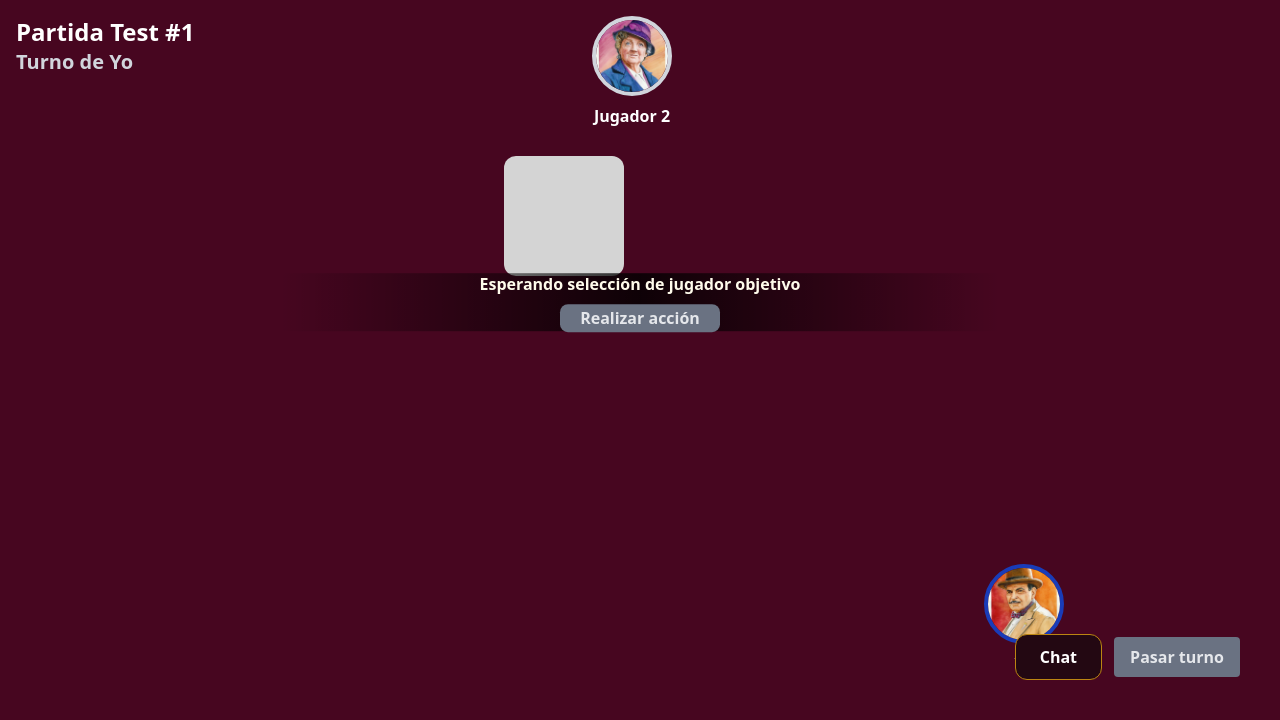
Test case: selectores de jugador y secreto › selecciona y deselecciona un jugador objetivo
Check: the text "Esperando selección de jugador objetivo" is shown, box 480,272 -> 800,296
Check: the button "Realizar acción" is disabled, box 560,304 -> 720,332
Click the 1st picture named "avatar" at (632, 56), box 596,20 -> 668,92
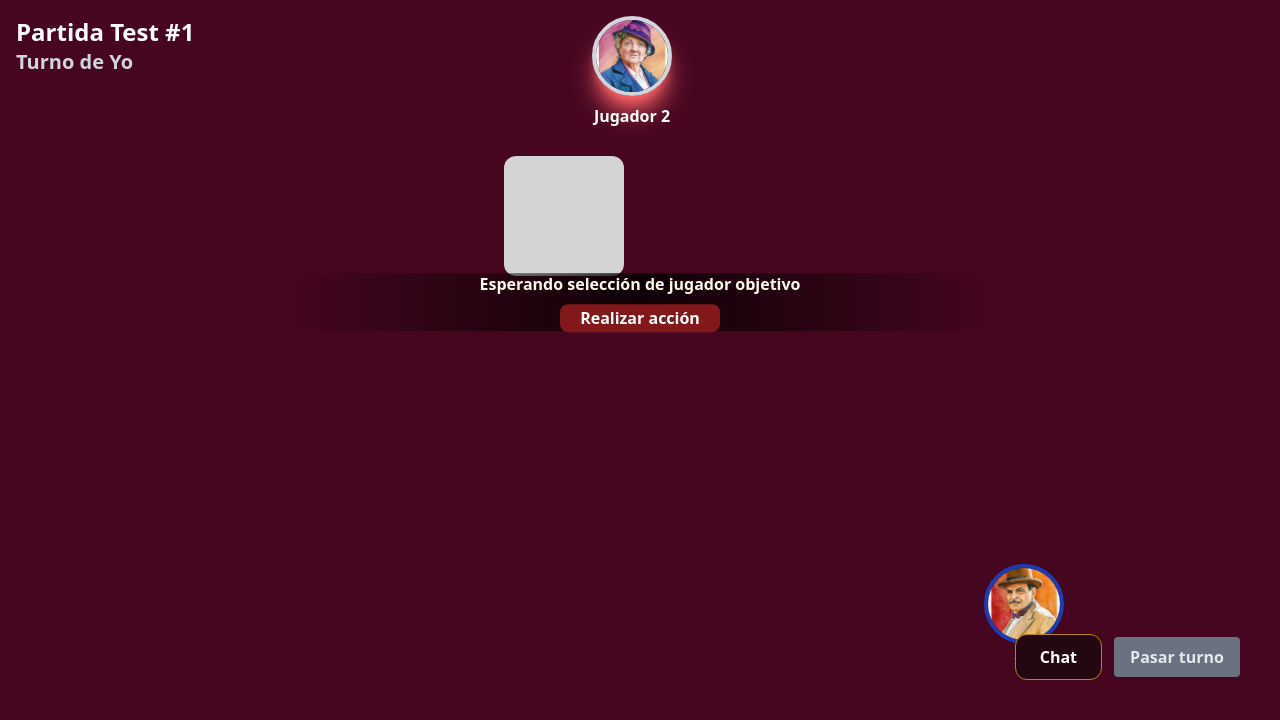
Check: the button "Realizar acción" is enabled, box 560,304 -> 720,332
Click the 1st picture named "avatar" at (632, 56), box 596,20 -> 668,92
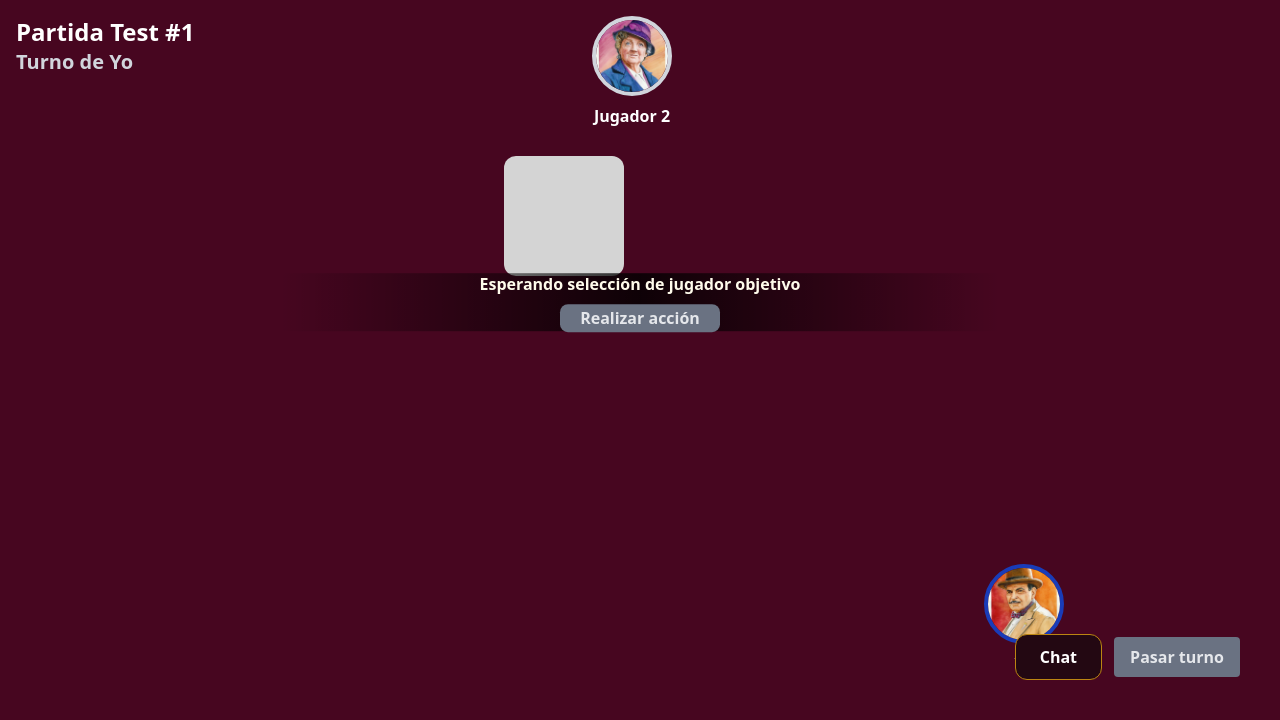
Check: the button "Realizar acción" is disabled, box 560,304 -> 720,332
